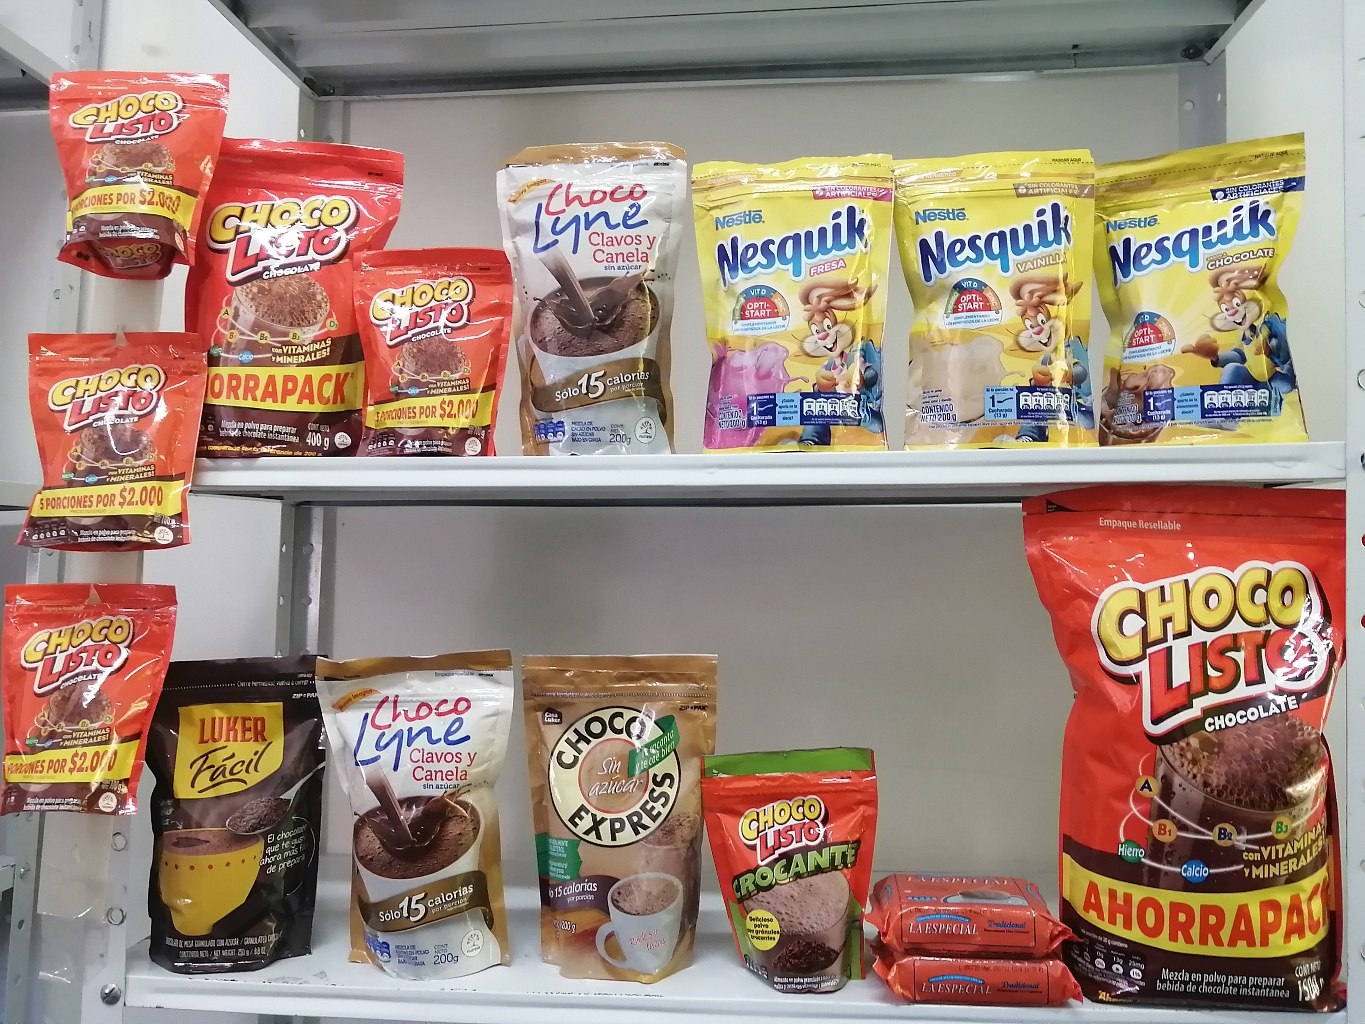COL0170102DYP10000: (694, 748, 888, 997)
COL0170103DYP1,500: (1025, 481, 1349, 1016)
COL0170103DYP10000: (47, 66, 237, 281)
COL0170103DYP40000: (203, 127, 395, 457)
COL0170303DYP20000: (1086, 142, 1317, 445)
COL0170305DYP20000: (691, 157, 906, 452)
COL0170306DYP20000: (892, 151, 1101, 451)
